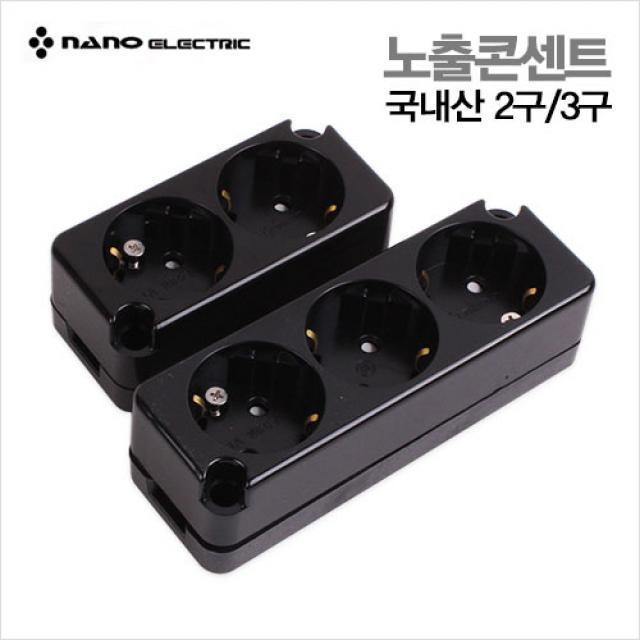typeb: (39, 101, 620, 609)
